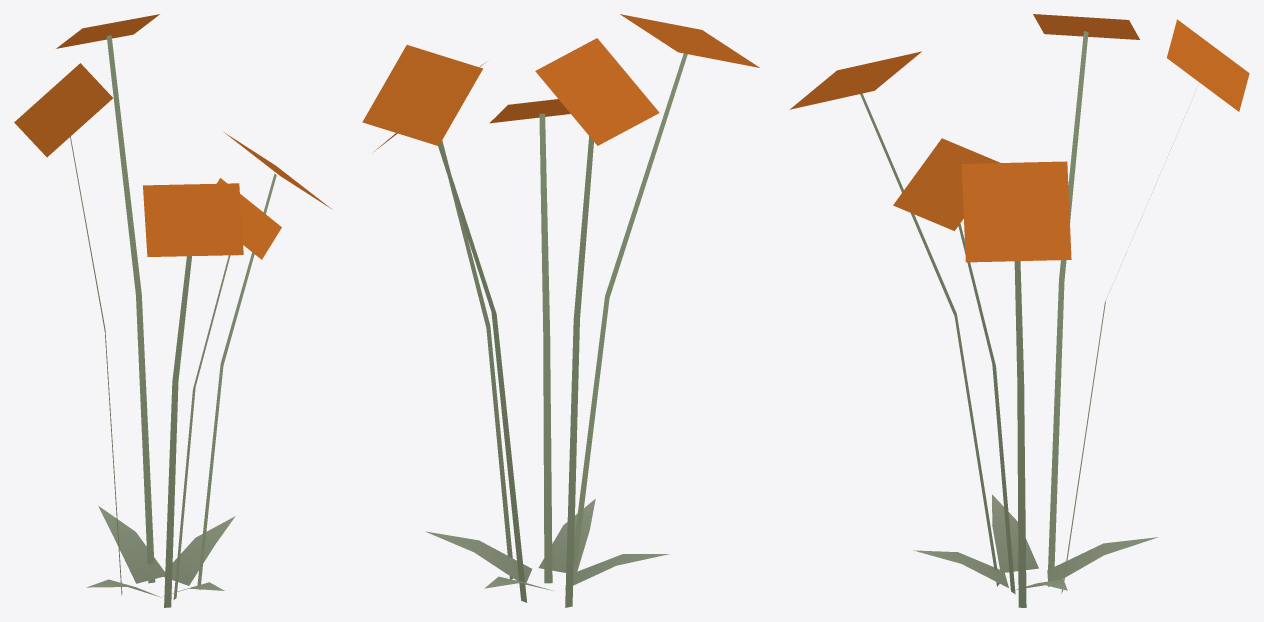
File: flower.desert.orange.glb
3 renders of one model, left to right at view 1: azimuth 30°, elevation 25°; view 2: azimuth 150°, elevation 25°; view 3: azimuth 270°, elevation 25°, orthographic. The views are drawn at different scales.
Parts seen in each view (by area): view 1: flower_desert_orange; view 2: flower_desert_orange; view 3: flower_desert_orange.
Boxes of the visible parts, <box> form: flower_desert_orange: <box>14,14,332,607</box>; flower_desert_orange: <box>362,14,759,607</box>; flower_desert_orange: <box>790,14,1249,607</box>.
Size of the model in its own units: 0.2747 by 0.544 by 0.4019.
